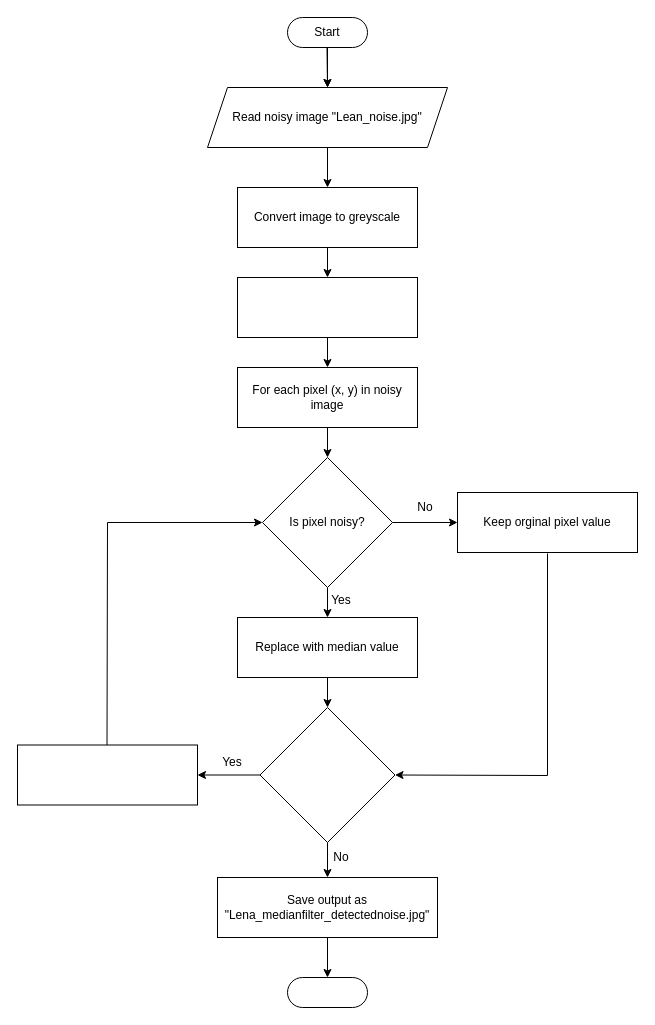
This 655x1025 diagram has some shape labels left out. The centre of each missing label's shape, as x and y in pixels:
Apply 3*3 median filter to entire image: (327,307)
End: (327,992)
More Pixel to process?: (327,774)
Move to next pixel: (107,774)
